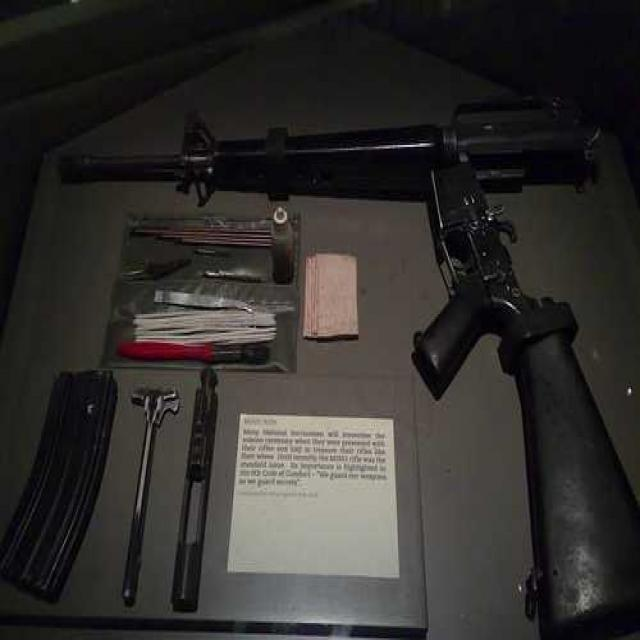weapon: (56, 56, 640, 640)
